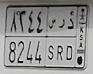2: (16, 10, 27, 63)
4: (35, 10, 44, 64), (26, 10, 35, 63)
8: (8, 9, 17, 64)
D: (65, 18, 75, 61)
R: (57, 18, 66, 61)
S: (47, 18, 57, 60)
